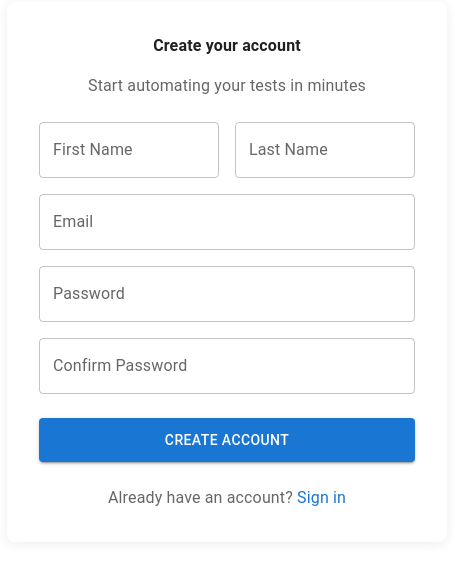
Test: SignUpPage › shows password mismatch error when confirm password does not match
Type "new@example.com" into the field labelled "Email". click: (227, 222)
box: [39,194,415,250]
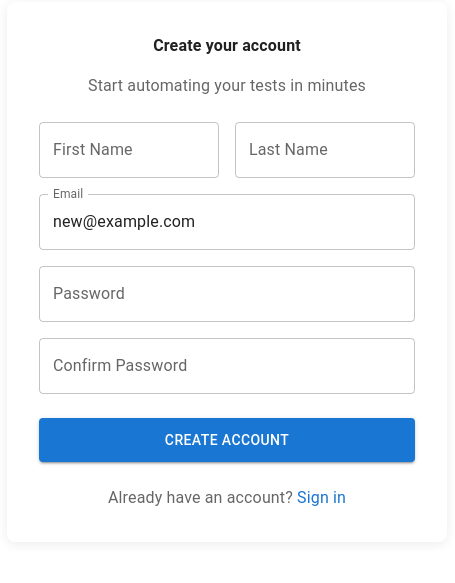
Type "Password1" into the password field labelled "Password". click: (227, 294)
box: [39,266,415,322]
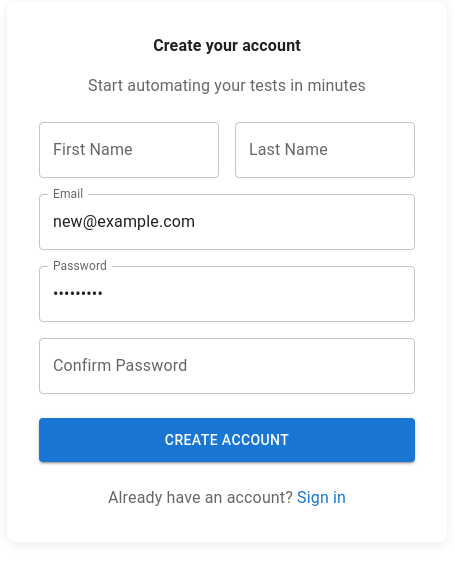
Type "Different1" into the password field labelled "Confirm Password". click: (227, 366)
box: [39,338,415,394]
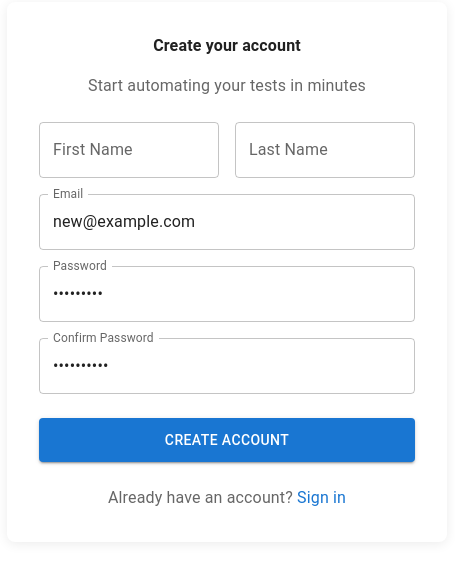
Click the button "Create Account". click: (227, 440)
box: [39,418,415,462]
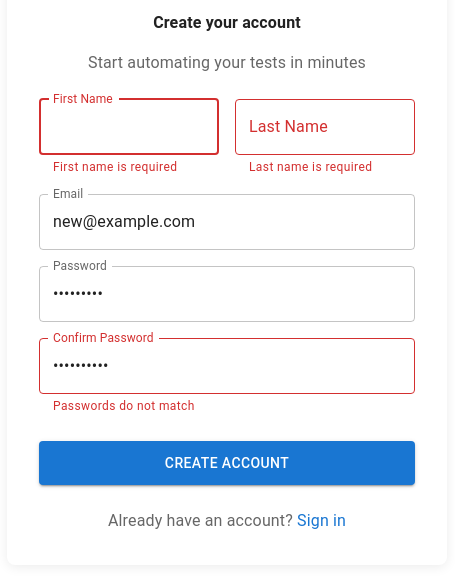
Check: the text "Passwords do not match" is shown, box [53,399,195,413]
